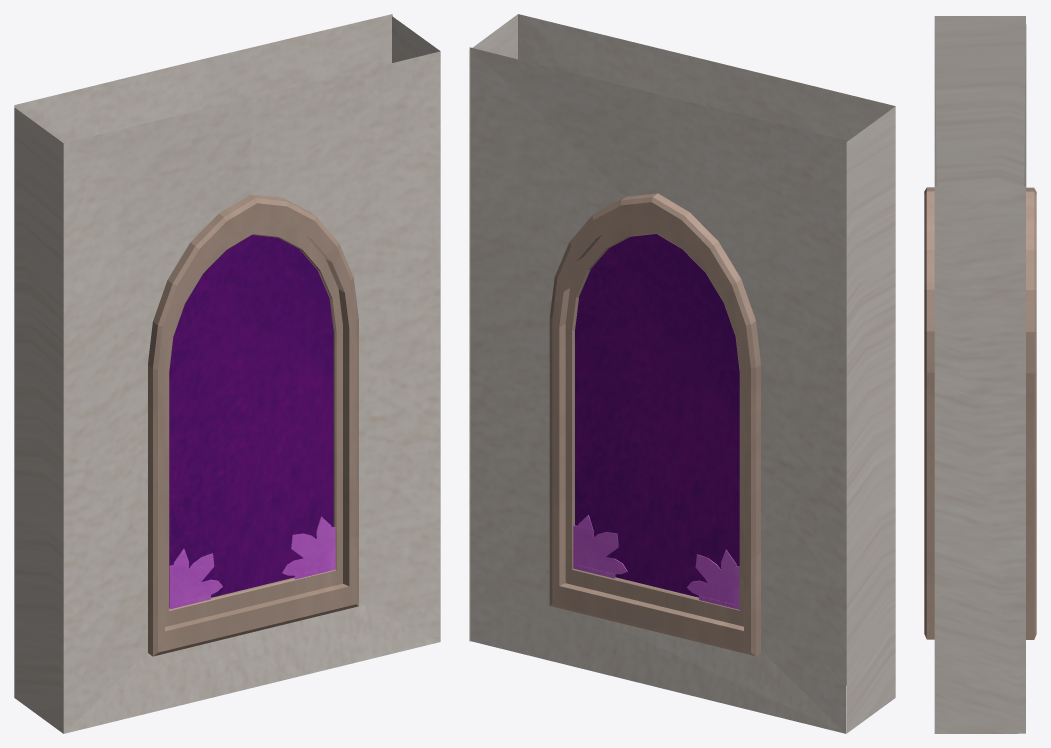
The model's file is Wall_With_Window.fbx.
3 renders of one model, left to right at view 1: azimuth 30°, elevation 25°; view 2: azimuth 150°, elevation 25°; view 3: azimuth 270°, elevation 25°, orthographic. The views are drawn at different scales.
Parts seen in each view (by area): view 1: Wall_With_Window, Wall_With_Window_Left_Side, Wall_With_Window_Back, Window_Decor_Crystals_Left, Window_Decor_Crystals_Right, Wall_With_Window_Right_Side; view 2: Wall_With_Window_Back, Wall_With_Window_Left_Side, Wall_With_Window, Wall_With_Window_Right_Side, Window_Decor_Crystals_Left, Window_Decor_Crystals_Right; view 3: Wall_With_Window_Right_Side, Wall_With_Window_Left_Side, Wall_With_Window_Back, Wall_With_Window.
Part boxes in pixels (x1,y1,x2,y2): Wall_With_Window: (63, 51, 440, 733); Wall_With_Window_Left_Side: (14, 107, 63, 733); Wall_With_Window_Back: (14, 14, 392, 143); Window_Decor_Crystals_Left: (169, 548, 222, 609); Window_Decor_Crystals_Right: (282, 516, 335, 579); Wall_With_Window_Right_Side: (392, 16, 440, 62); Wall_With_Window_Back: (469, 47, 846, 733); Wall_With_Window_Left_Side: (846, 106, 895, 733); Wall_With_Window: (518, 14, 895, 685); Wall_With_Window_Right_Side: (469, 14, 517, 641); Window_Decor_Crystals_Left: (573, 515, 627, 578); Window_Decor_Crystals_Right: (687, 549, 739, 609); Wall_With_Window_Right_Side: (934, 186, 1025, 733); Wall_With_Window_Left_Side: (934, 16, 1025, 186); Wall_With_Window_Back: (1024, 24, 1036, 639); Wall_With_Window: (924, 26, 936, 639).
Bounding box in the file's own units: 0.02 × 0.0301 × 0.00555.
